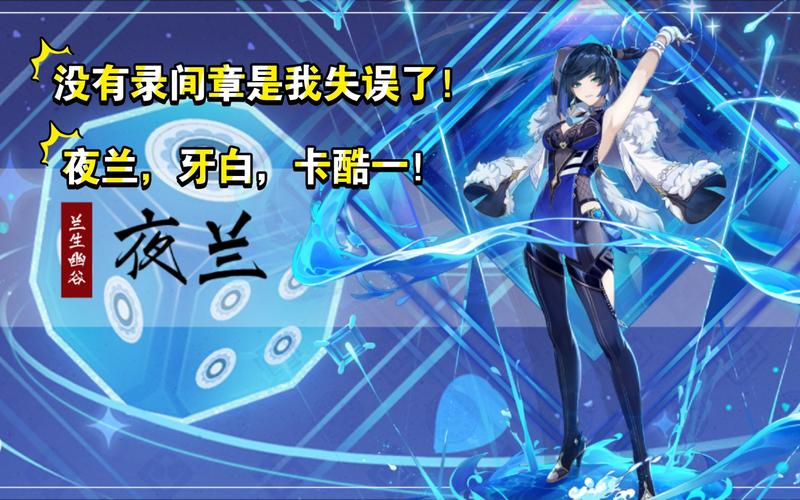夜兰: (524, 25, 693, 496)
